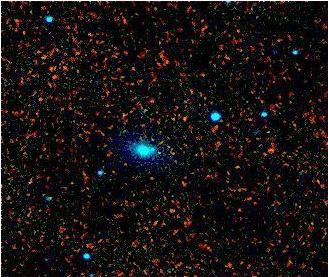star: (256, 134, 286, 164)
